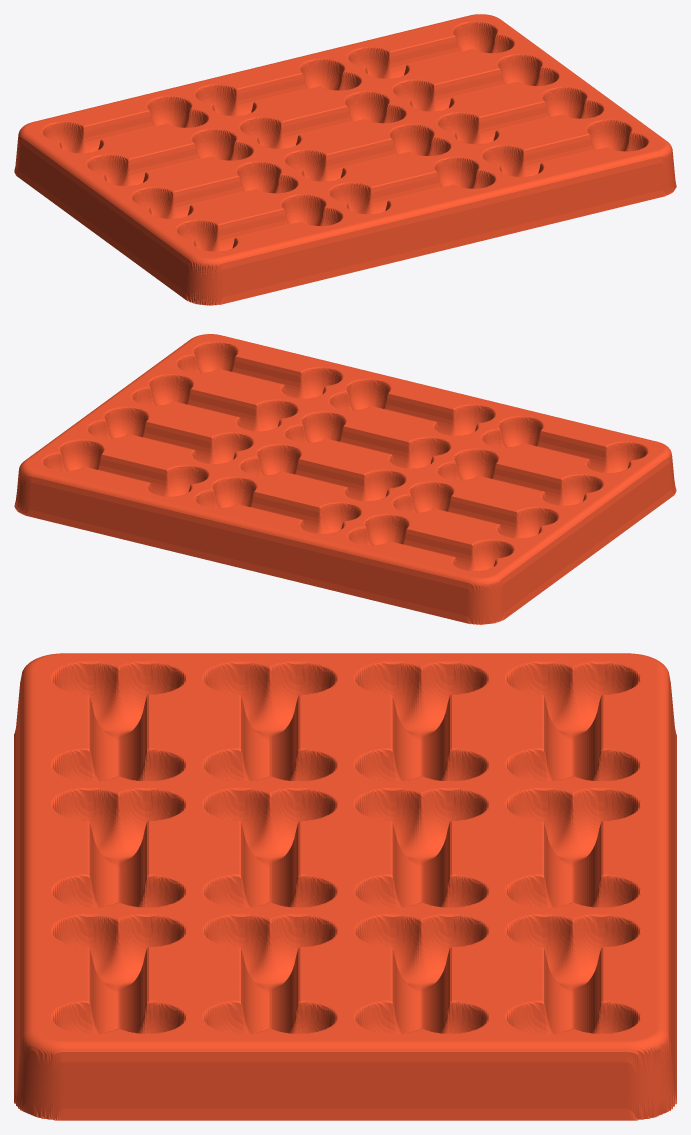
Rendered from mold.glb.
The picture shows the model from 3 angles, top to bottom: view 1: azimuth 30°, elevation 25°; view 2: azimuth 150°, elevation 25°; view 3: azimuth 270°, elevation 25°; orthographic projection. The views are drawn at different scales.
Visible parts, largest first — view 1: geometry_0; view 2: geometry_0; view 3: geometry_0.
Part boxes in pixels (left/top/right/bottom): geometry_0: left=14, top=14, right=676, bottom=305; geometry_0: left=14, top=334, right=676, bottom=624; geometry_0: left=14, top=653, right=676, bottom=1120.
Size of the model in its own units: 0.1753 by 0.0145 by 0.1219.
